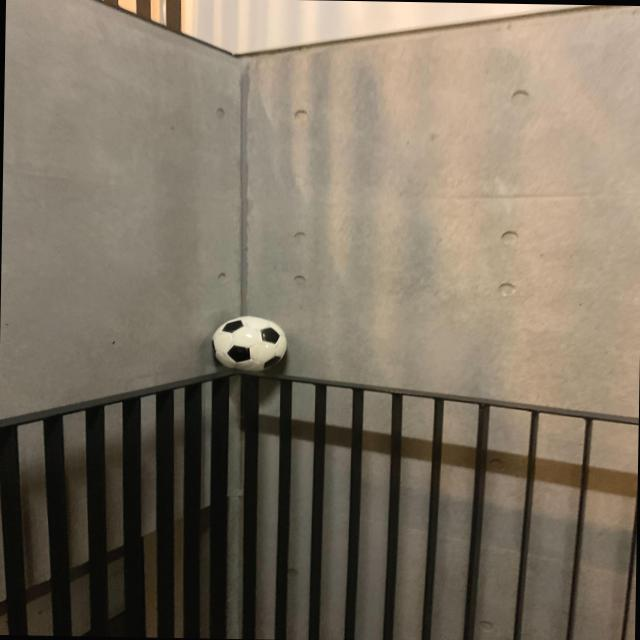Soccer Ball: (214, 316, 288, 374)
